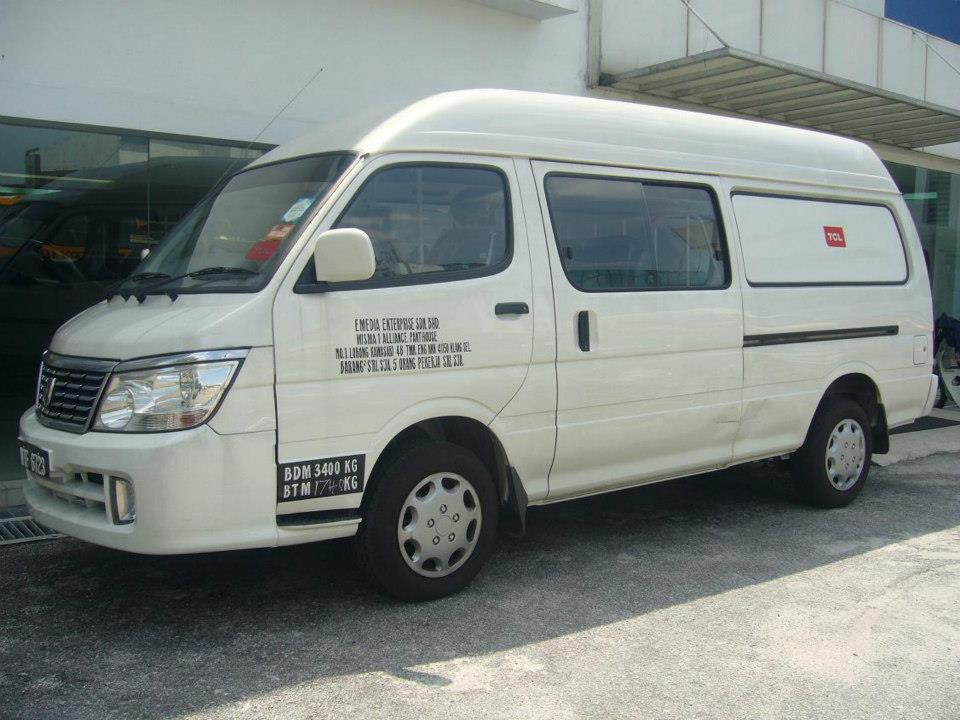van: (23, 88, 942, 578)
